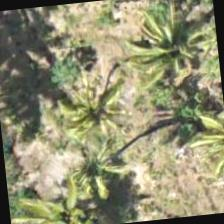Kelapa_Sawit: (124, 1, 222, 101), (44, 55, 142, 154), (35, 177, 131, 223)
